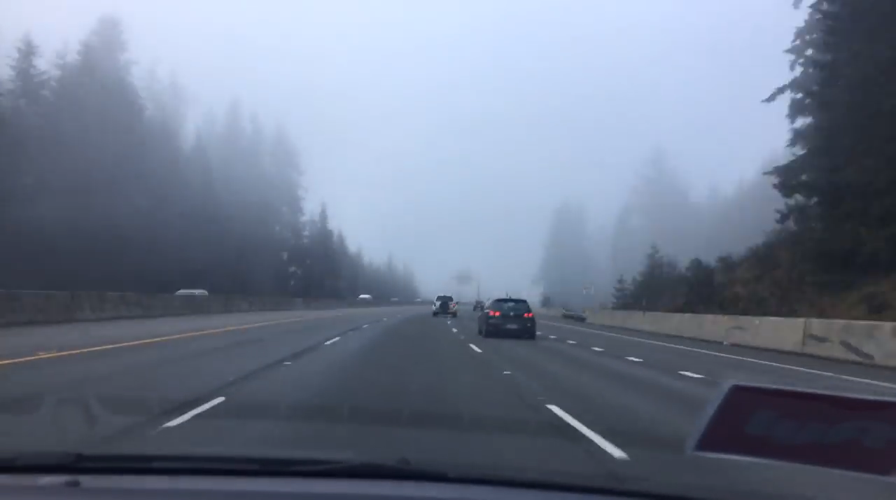car: (476, 295, 539, 340), (170, 288, 211, 306), (430, 292, 458, 318), (354, 292, 375, 306), (473, 297, 488, 312)
